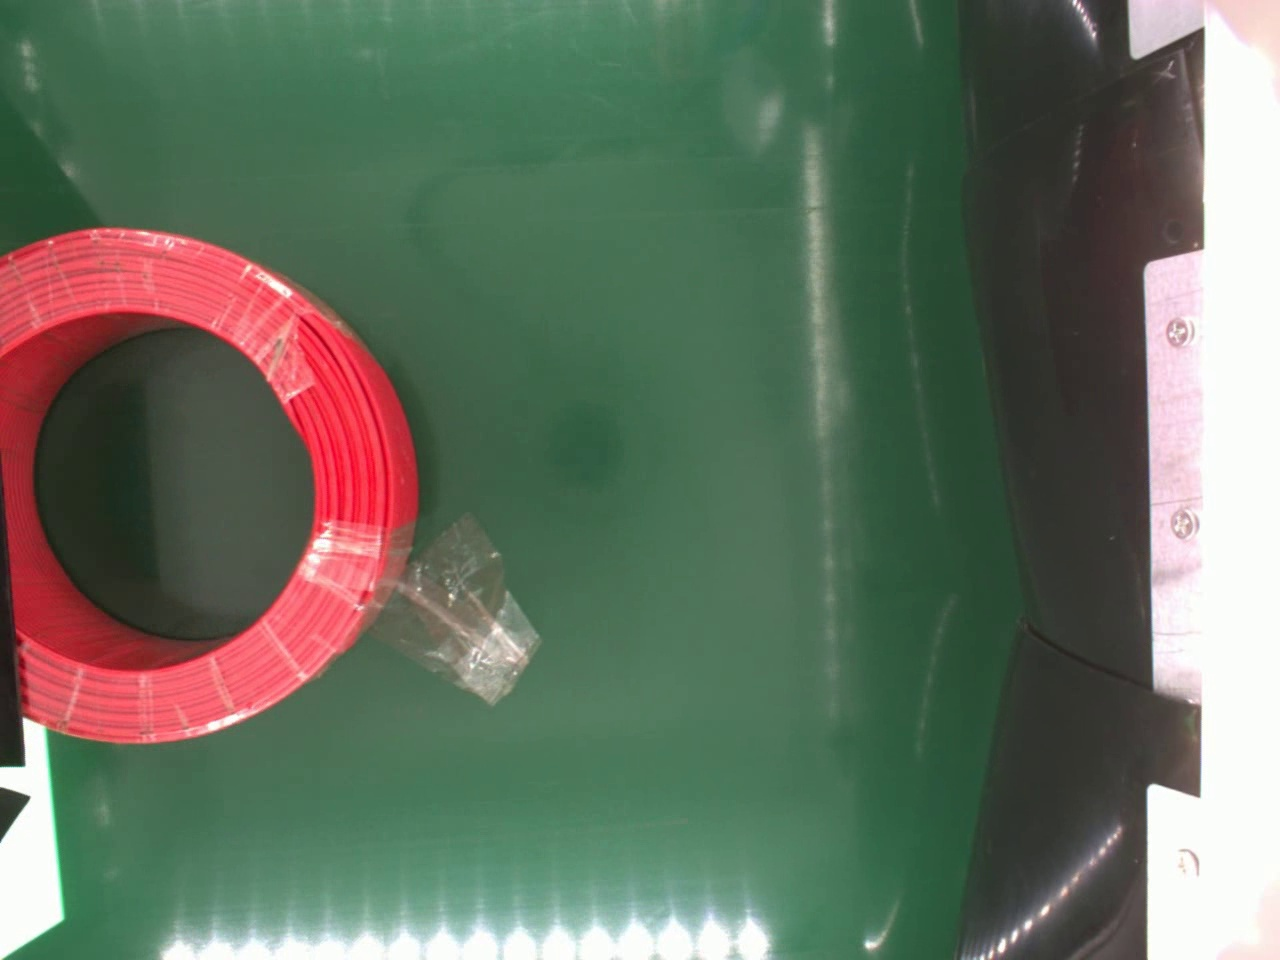red: (0, 224, 422, 741)
